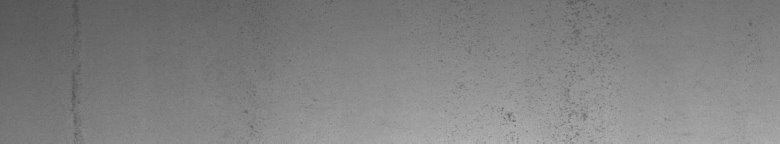ib: (492, 4, 620, 132)
